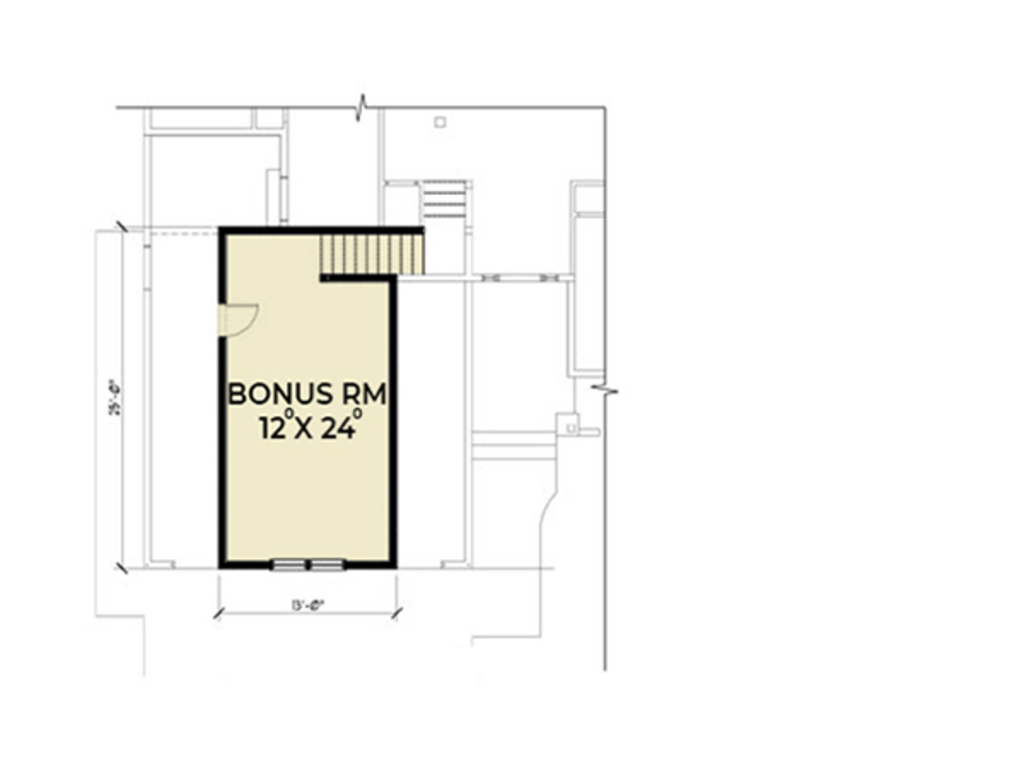door: (217, 299, 259, 340)
stairs: (312, 228, 426, 280), (416, 180, 468, 223)
windows: (267, 556, 346, 576)
